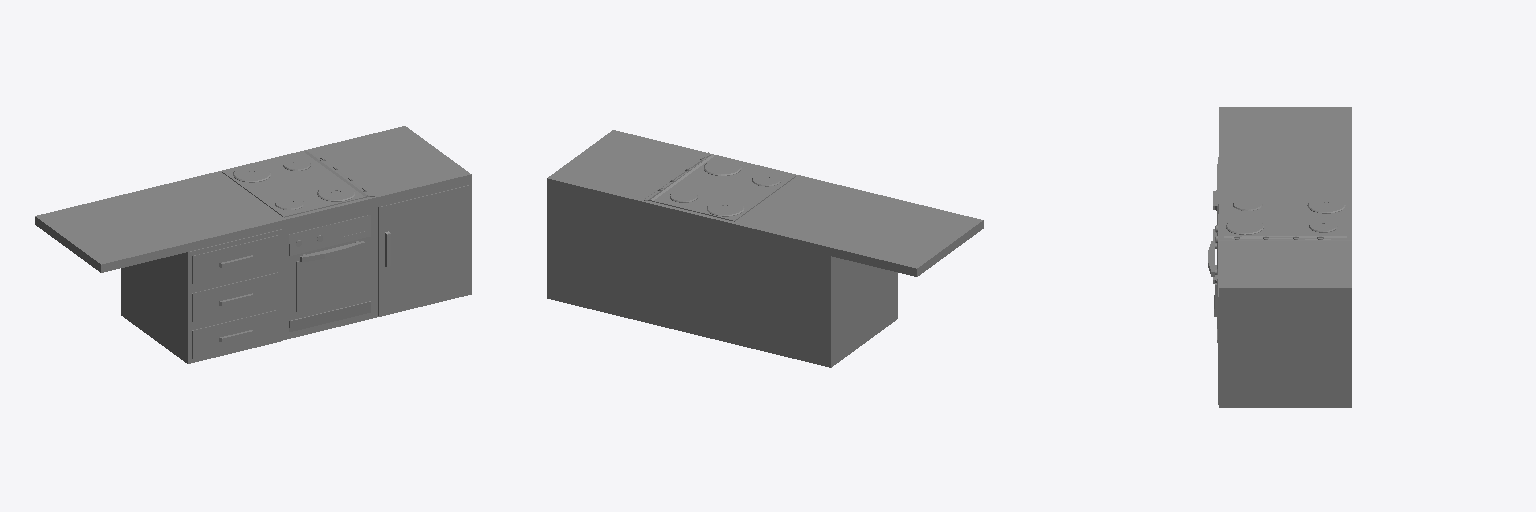
The model's file is ktc_table.obj.
3 views of the same model, side by side, from view 1: azimuth 30°, elevation 25°; view 2: azimuth 150°, elevation 25°; view 3: azimuth 270°, elevation 25° (orthographic).
Visible parts, largest first — view 1: fkc.005; view 2: fkc.005; view 3: fkc.005.
Part boxes in pixels (x1,y1,x2,y2): fkc.005: (35,126,471,363); fkc.005: (547,130,983,367); fkc.005: (1208,107,1351,407).
Bounding box in the file's own units: 87.27 × 27.69 × 29.34.